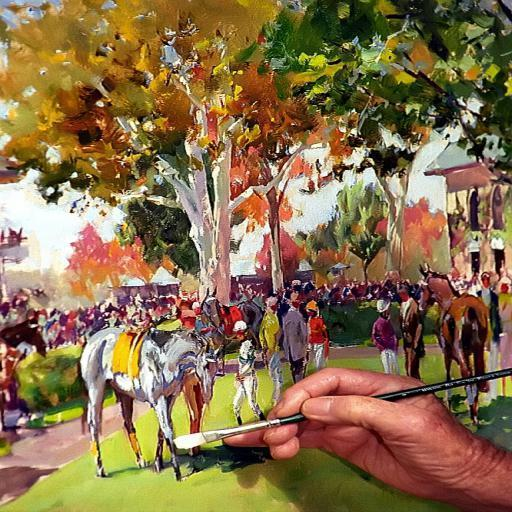horse: (76, 326, 222, 480), (415, 266, 496, 429)
